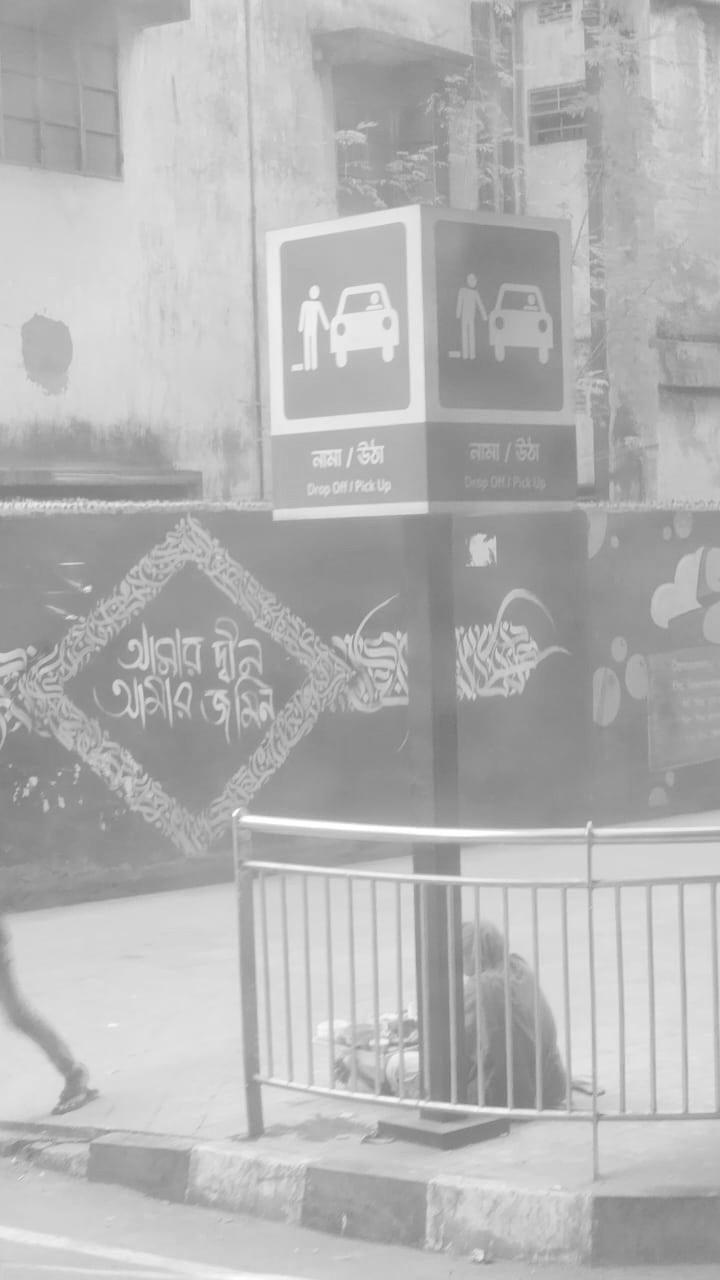Metro Dorp Up Pick up: (260, 208, 585, 512)
